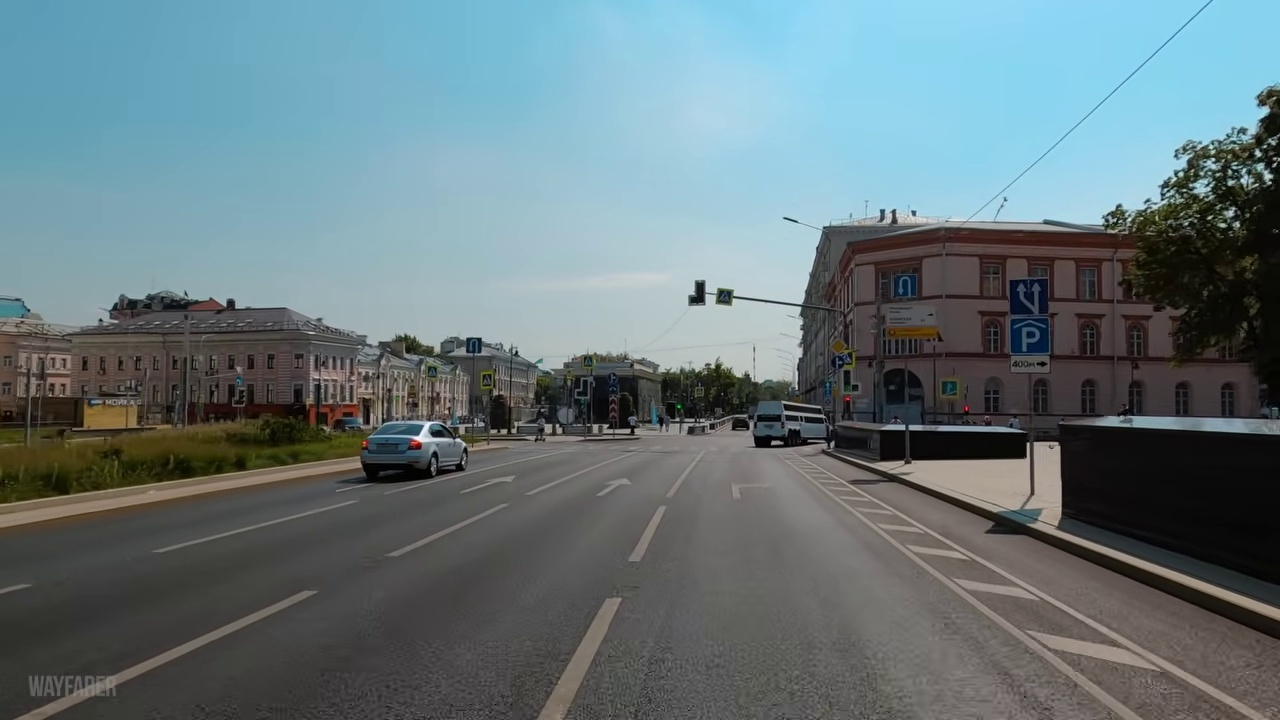apagada: (779, 209, 803, 232)
